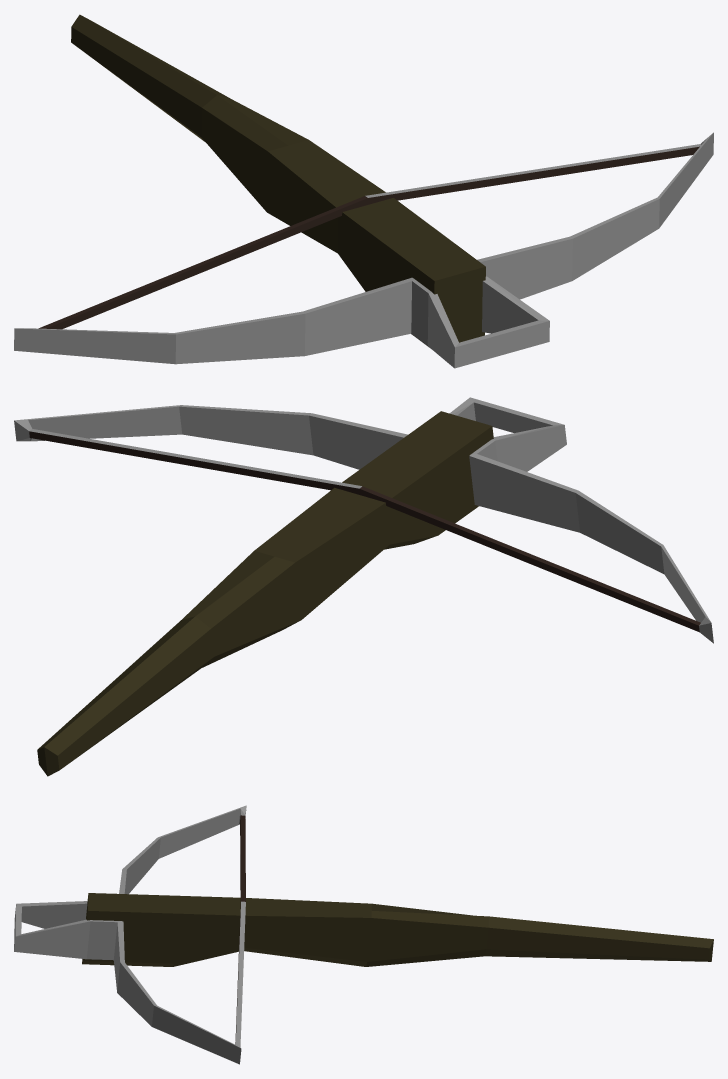
The model's file is crossbow.glb.
3 views of the same model, one above another, from view 1: azimuth 30°, elevation 25°; view 2: azimuth 150°, elevation 25°; view 3: azimuth 270°, elevation 25° (orthographic). The views are drawn at different scales.
Visible parts, largest first — view 1: crossbow_1; view 2: crossbow_1; view 3: crossbow_1.
Boxes of the visible parts, bbox=[...] form: crossbow_1: bbox=[14, 14, 713, 368]; crossbow_1: bbox=[14, 397, 713, 776]; crossbow_1: bbox=[14, 805, 713, 1064].
Bounding box in the file's own units: 1.11 × 0.1331 × 1.23.
